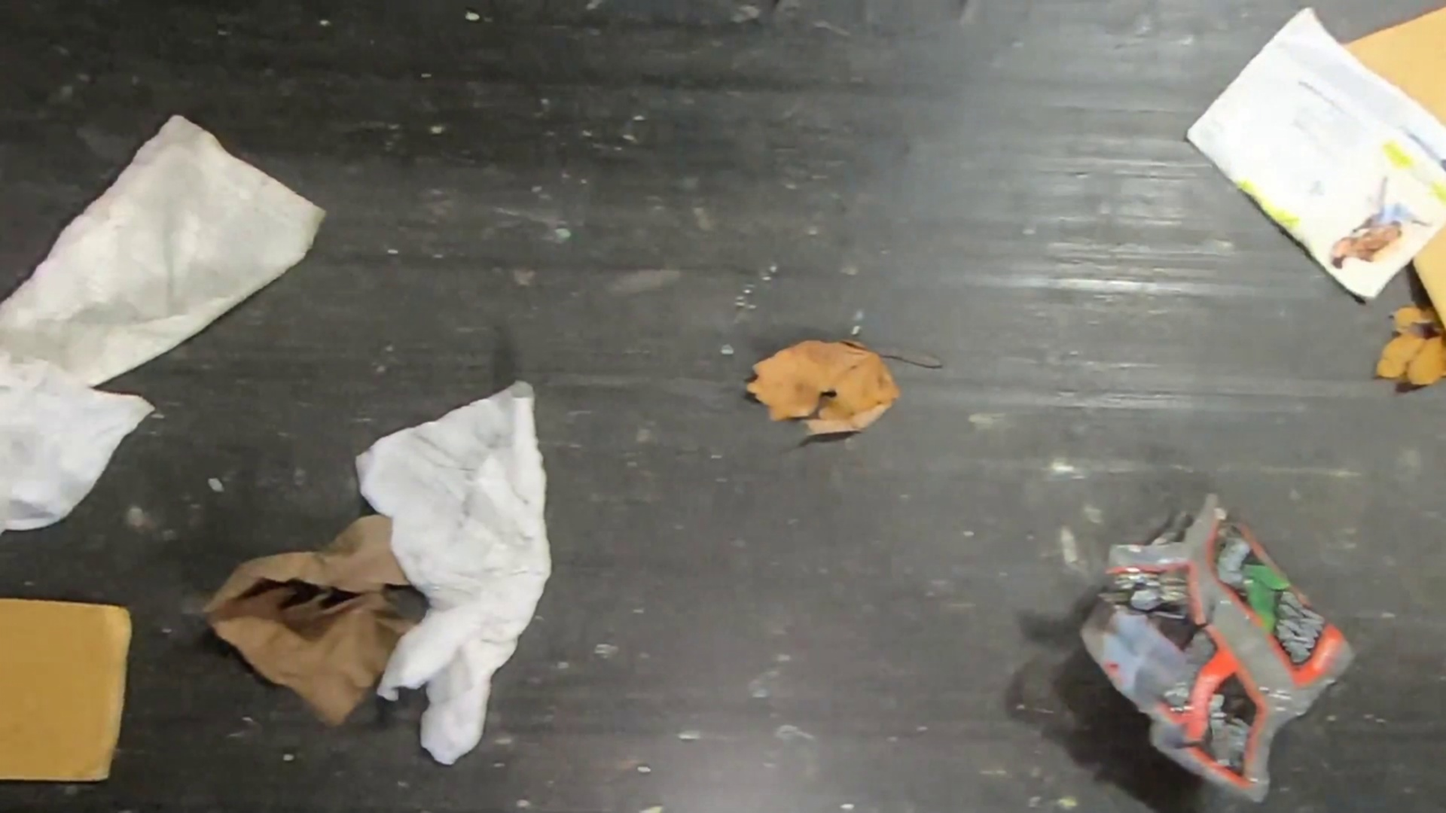cardboard: (0, 594, 141, 785)
plastic: (1074, 490, 1366, 805)
